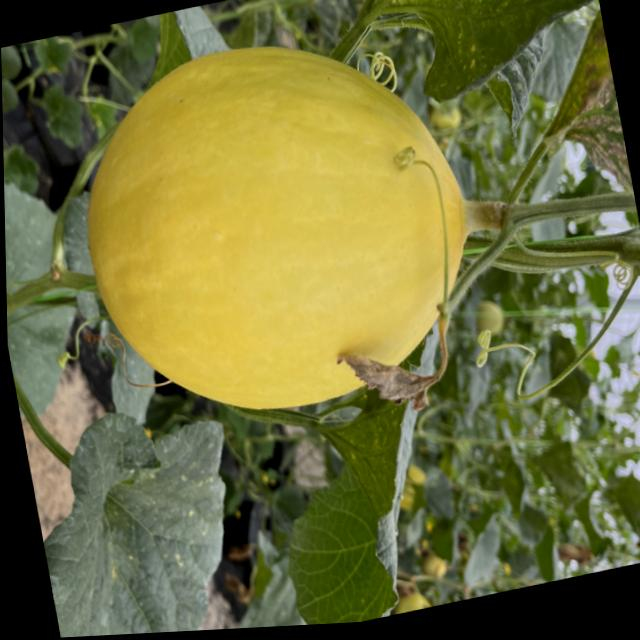bacterial wilt: (329, 324, 452, 427)
downy mildew: (352, 0, 621, 167), (263, 408, 456, 627), (43, 413, 226, 638)
